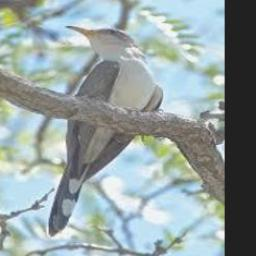Cuckoo: (47, 25, 163, 236)
